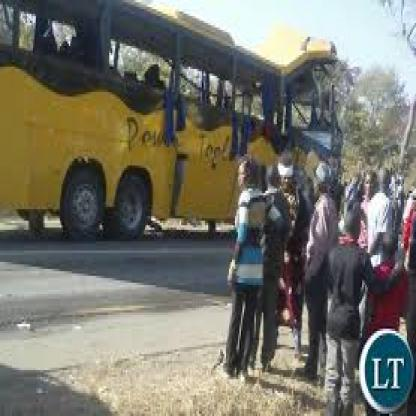accident: (0, 3, 366, 260)
